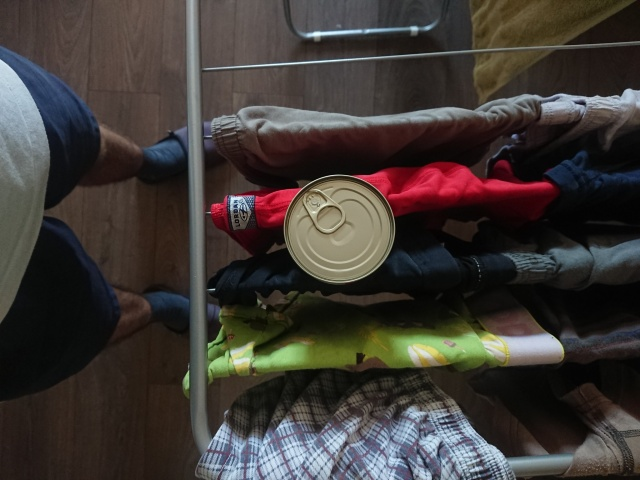Gavrilovic Pork Liver Pate 100g: (279, 171, 399, 288)
